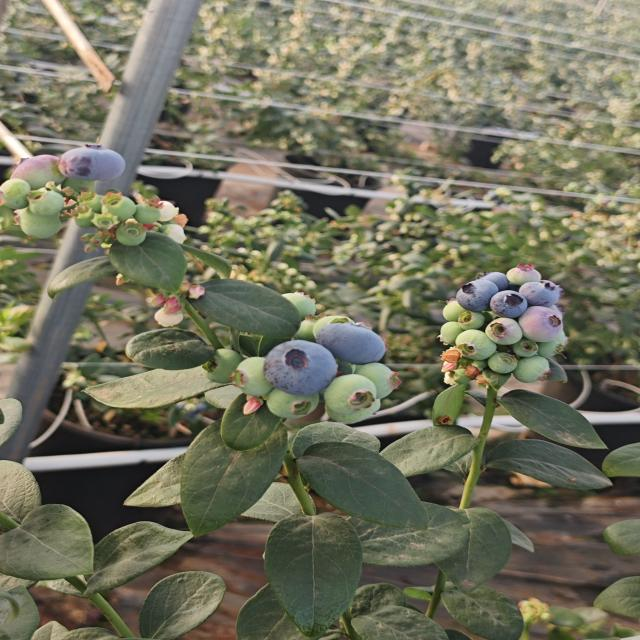ripe: (308, 315, 387, 367), (259, 343, 339, 394), (50, 142, 131, 186), (454, 277, 502, 314), (519, 278, 564, 309), (490, 288, 528, 319), (474, 266, 513, 293)
